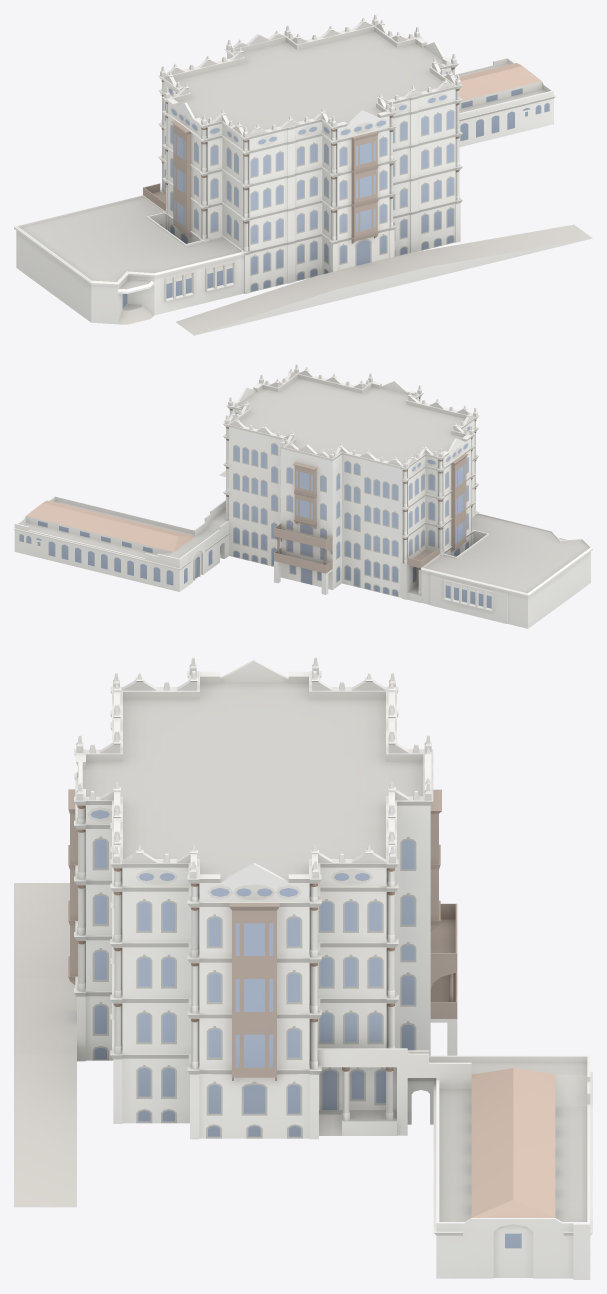
The picture shows the model from 3 angles, top to bottom: view 1: azimuth 30°, elevation 25°; view 2: azimuth 150°, elevation 25°; view 3: azimuth 270°, elevation 25°; orthographic projection. The views are drawn at different scales.
Visible parts, largest first — view 1: shubrapalace; view 2: shubrapalace; view 3: shubrapalace.
Boxes of the visible parts, x1,y1,x2,y2 form: shubrapalace: (14, 14, 592, 335); shubrapalace: (14, 364, 592, 628); shubrapalace: (14, 657, 592, 1279).
Size of the model in its own units: 76.18 by 21.86 by 41.42.
Materials: 1 (1 with a texture image).
